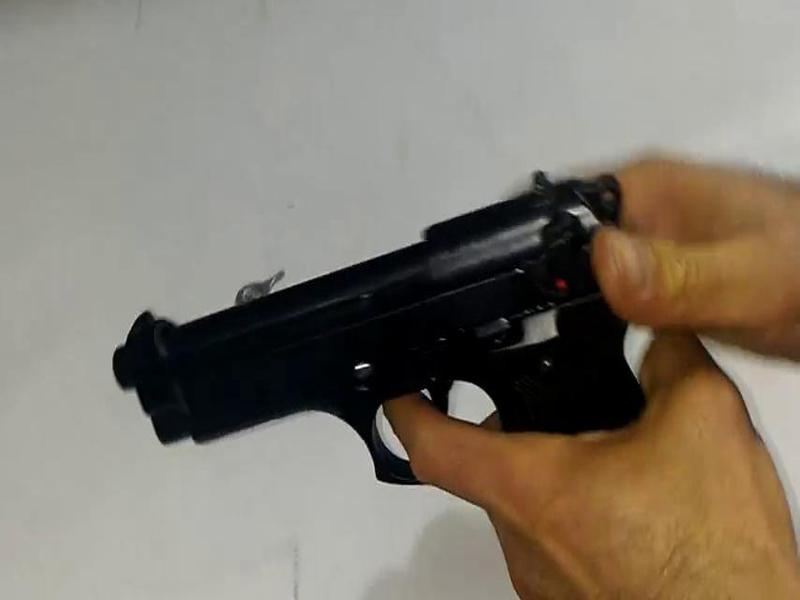Pistola: (57, 184, 628, 520)
